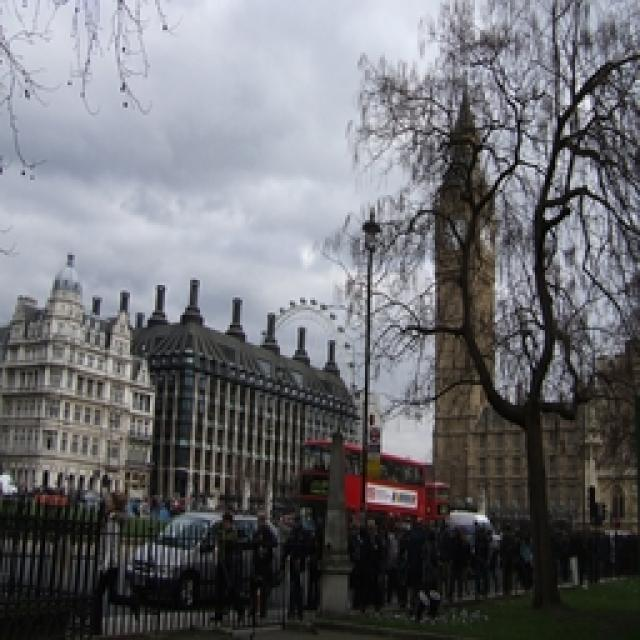Abbey: (1, 195, 640, 531)
